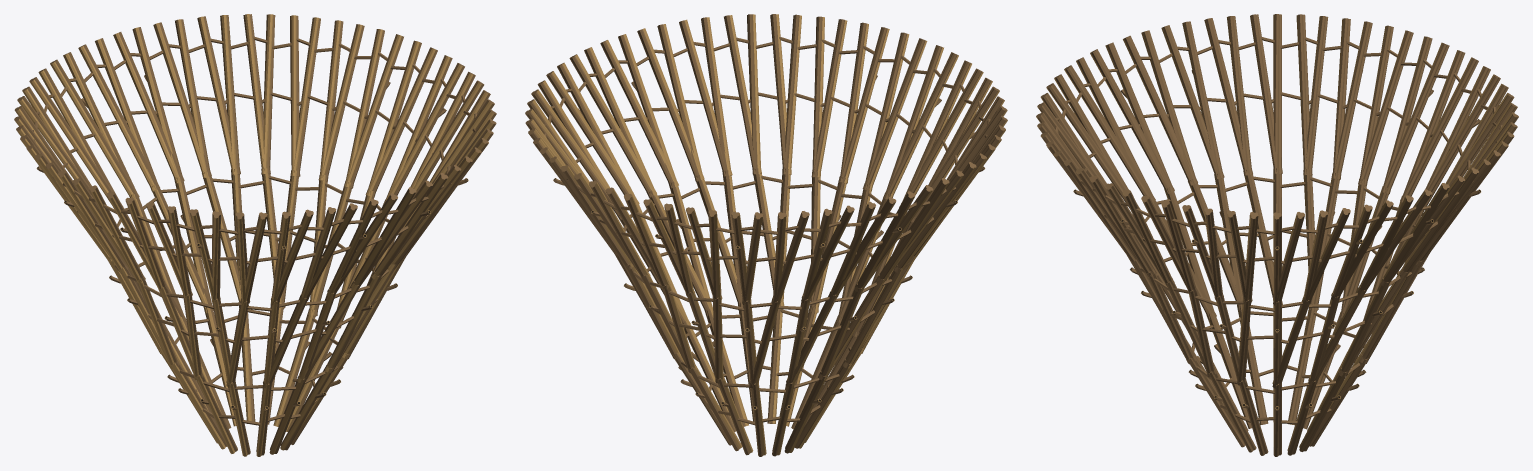
File: dictyonema.glb
The picture shows the model from 3 angles, left to right: view 1: azimuth 30°, elevation 25°; view 2: azimuth 150°, elevation 25°; view 3: azimuth 270°, elevation 25°; orthographic projection.
Parts seen in each view (by area): view 1: dictyonema-original-tubarium; view 2: dictyonema-original-tubarium; view 3: dictyonema-original-tubarium.
Boxes of the visible parts, box(x1,y1,x2,y2) form: dictyonema-original-tubarium: box(14, 14, 496, 456); dictyonema-original-tubarium: box(525, 14, 1007, 456); dictyonema-original-tubarium: box(1036, 14, 1518, 456).
Bounding box in the file's own units: 0.0406 × 0.0304 × 0.0406.
